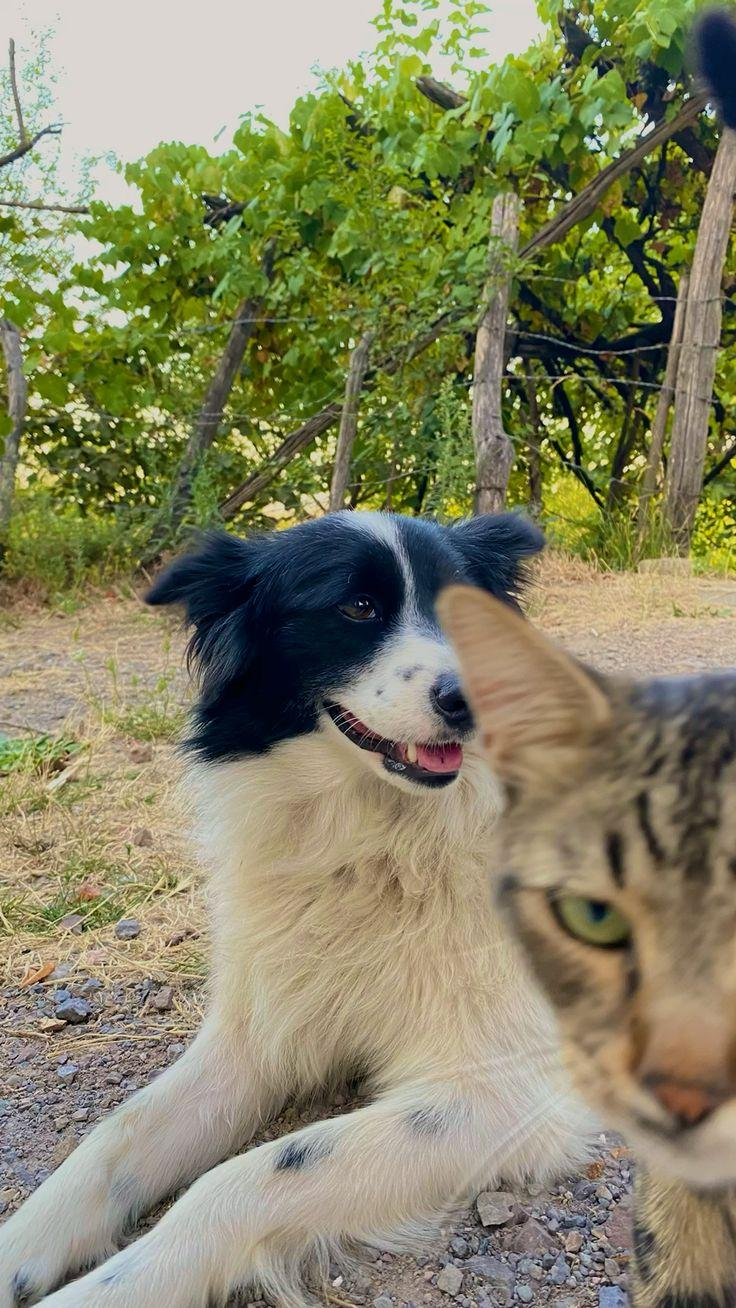kedo: (432, 570, 736, 1303)
